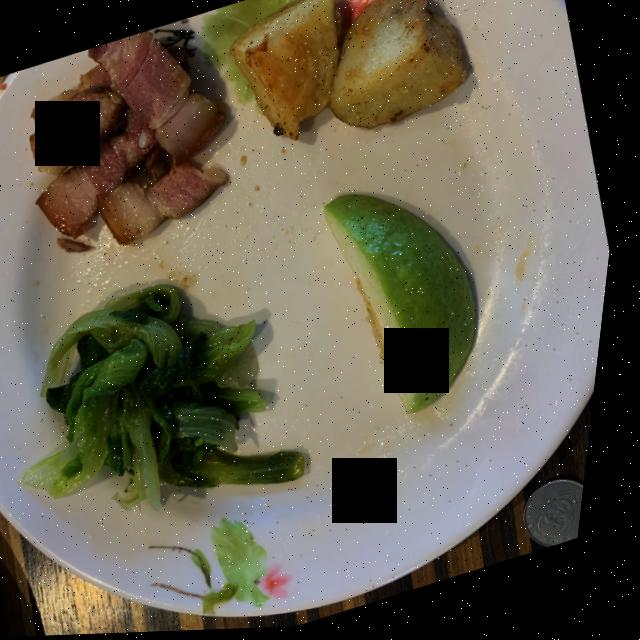coin: (536, 483, 596, 551)
fried potato: (231, 0, 467, 142)
grilled pork: (33, 31, 230, 245)
guava -sliced-: (329, 196, 484, 416)
mustard greens: (30, 286, 316, 511)
